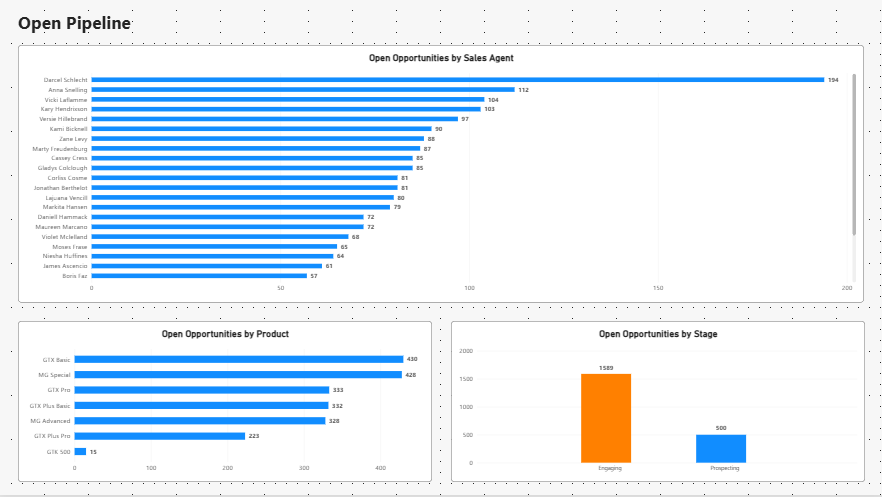

This screenshot's page, from the dashboard's own definition file:
{"tool":"powerbi","page":{"name":"Open Pipeline","canvas":[1920,1080],"ordinal":2},"visuals":[{"type":"clusteredBarChart","title":"Open Opportunities by Sales Agent","fields":{"Category":["crm_sales sales_teams.sales_agent"],"Y":["crm_sales sales_pipeline.Open Deals Count"]},"box":[40,100,1839,560],"z":0},{"type":"clusteredBarChart","title":"Open Opportunities by Product","fields":{"Category":["crm_sales products.product"],"Y":["crm_sales sales_pipeline.Open Deals Count"]},"box":[40,700,900,350],"z":1},{"type":"textbox","box":[40,25,1839,50],"z":3},{"type":"clusteredColumnChart","title":"Open Opportunities by Stage","fields":{"Category":["Open Stage.Stage"],"Y":["Open Stage.Open Deals by Stage"]},"box":[980,700,900,350],"z":6}]}

Visuals, with their boxes in screenshot pixels (x1, y1, x2, y2), scaled from the page's 1920x1080 canvas onto the 882x497 screenshot:
"Open Opportunities by Sales Agent" clusteredBarChart: region(18, 46, 863, 304)
"Open Opportunities by Product" clusteredBarChart: region(18, 322, 432, 483)
textbox: region(18, 12, 863, 35)
"Open Opportunities by Stage" clusteredColumnChart: region(450, 322, 864, 483)
